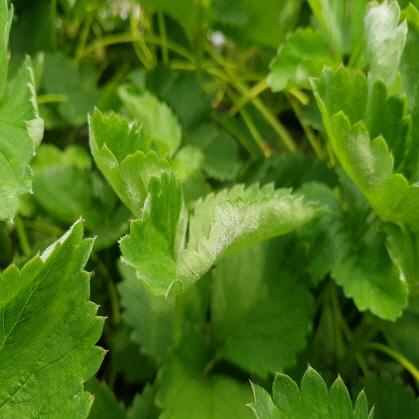Powdery Mildew Leaf: (0, 215, 108, 418), (164, 181, 327, 304), (307, 63, 418, 234), (87, 105, 177, 218), (117, 169, 188, 296), (362, 0, 408, 83)
